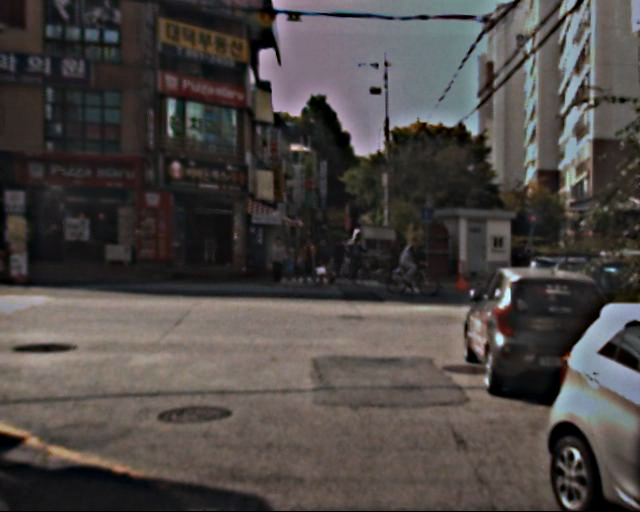person: (516, 240, 537, 290), (313, 234, 333, 283), (267, 237, 287, 285), (393, 238, 413, 286), (348, 236, 366, 280), (333, 236, 348, 273), (302, 238, 317, 275)
